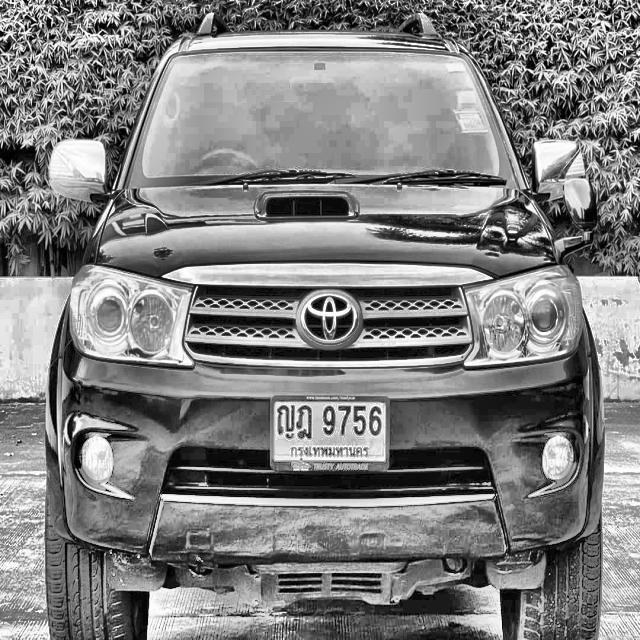license-plate: (270, 393, 390, 475)
